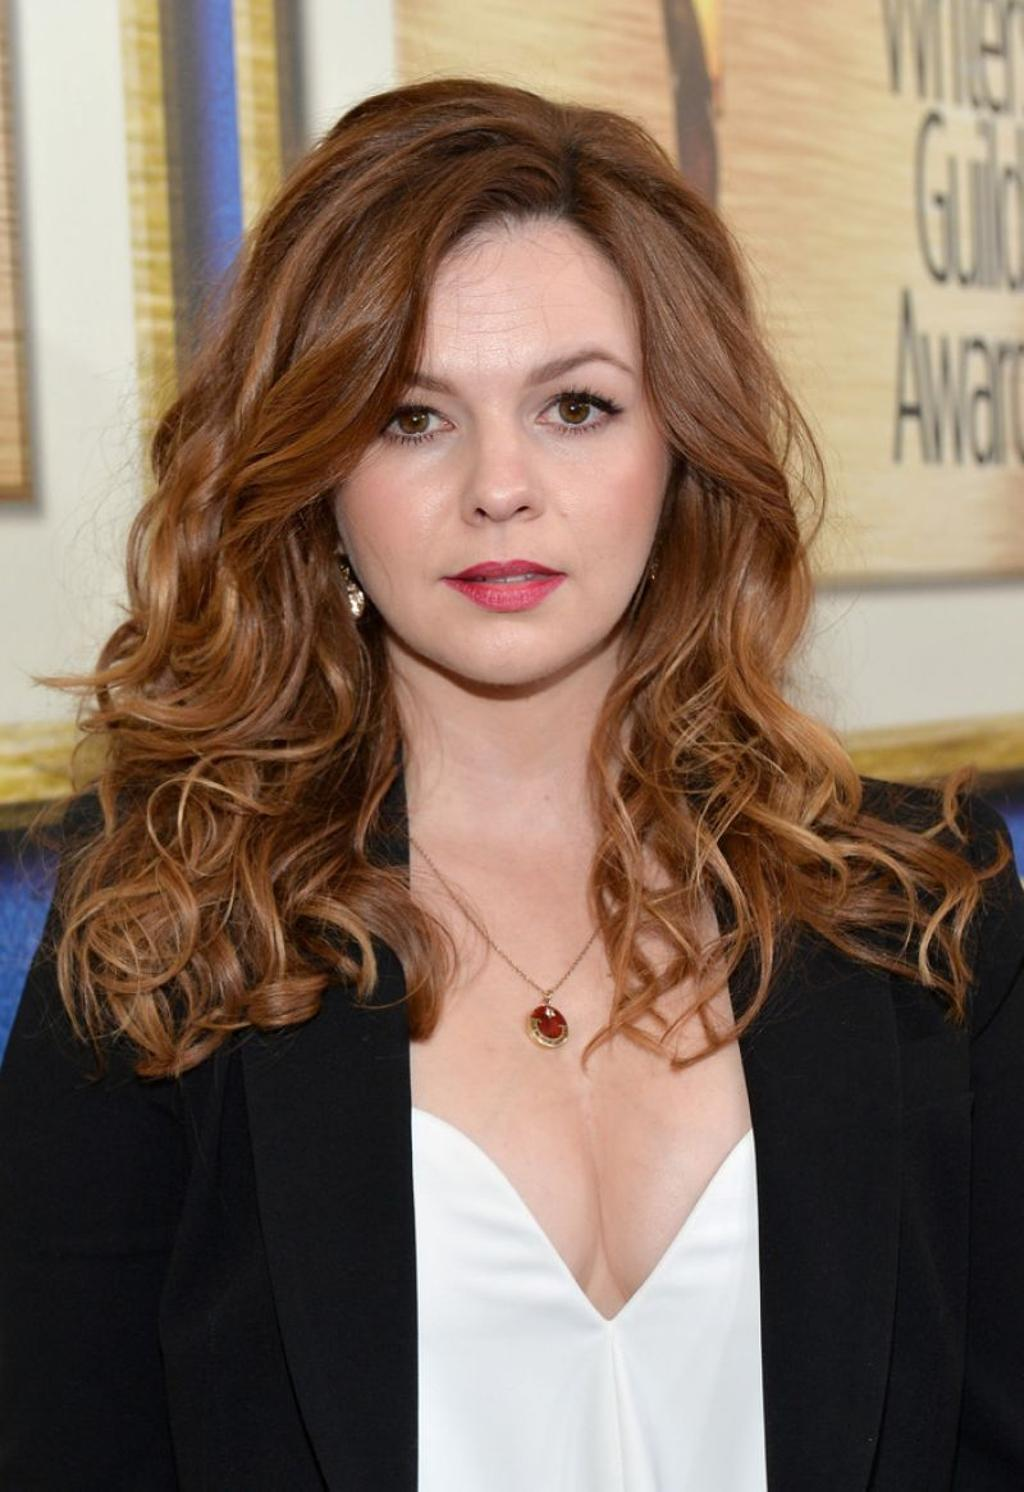face: (326, 215, 678, 680)
